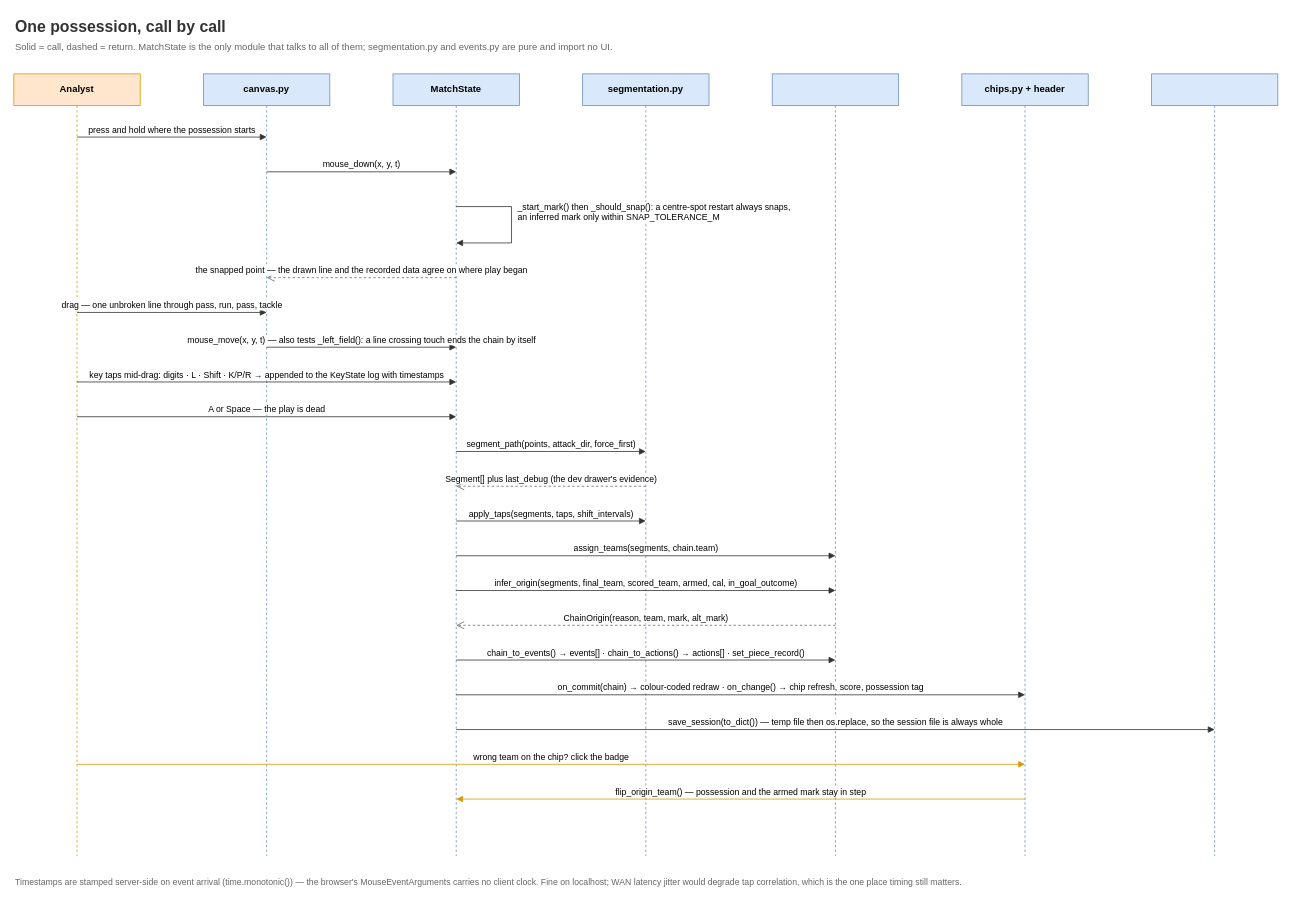
Some shapes in this 1292 by 916 pixel diagram are drawn without their labels. The box of each missing label's shape, as (x1, y1, x2, y2) in pixels:
autosave.py: (1151, 73, 1278, 856)
events.py: (771, 73, 899, 856)
